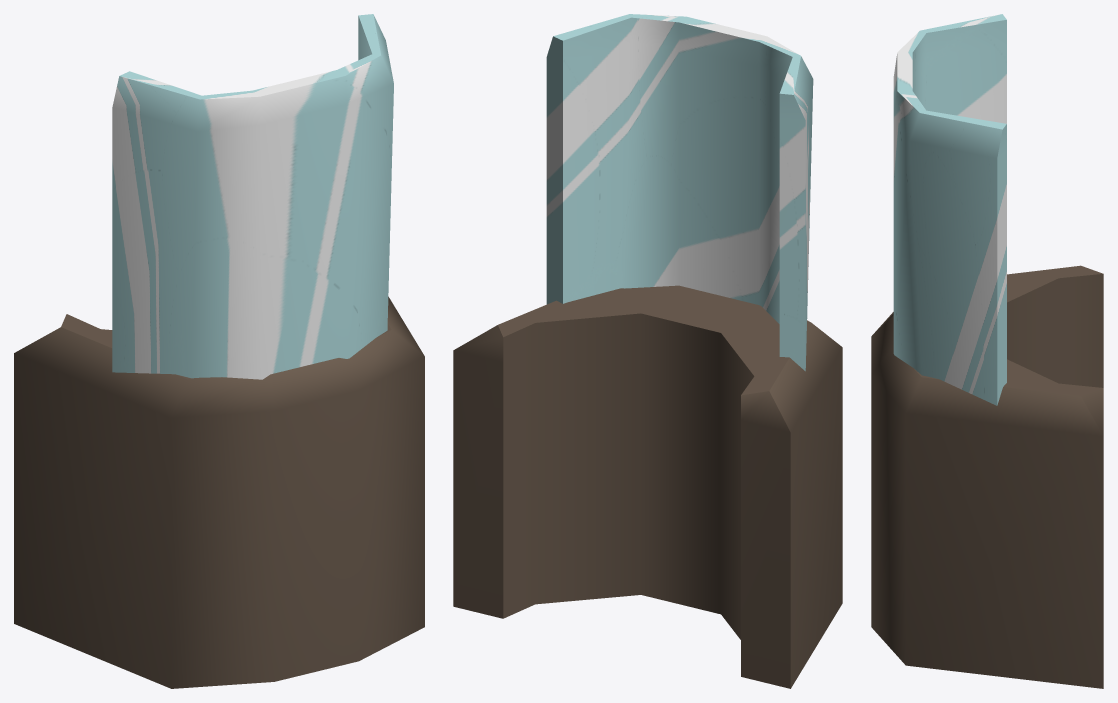
File: SM_Hub_Booth_01.fbx
The picture shows the model from 3 angles, left to right: view 1: azimuth 30°, elevation 25°; view 2: azimuth 150°, elevation 25°; view 3: azimuth 270°, elevation 25°; orthographic projection. The views are drawn at different scales.
Parts seen in each view (by area): view 1: pasted__pCube1; view 2: pasted__pCube1; view 3: pasted__pCube1.
Boxes of the visible parts, x1,y1,x2,y2 form: pasted__pCube1: (14,14,424,688); pasted__pCube1: (453,14,842,688); pasted__pCube1: (871,14,1103,688).
Bounding box in the file's own units: 10.74 × 16.57 × 6.51.
